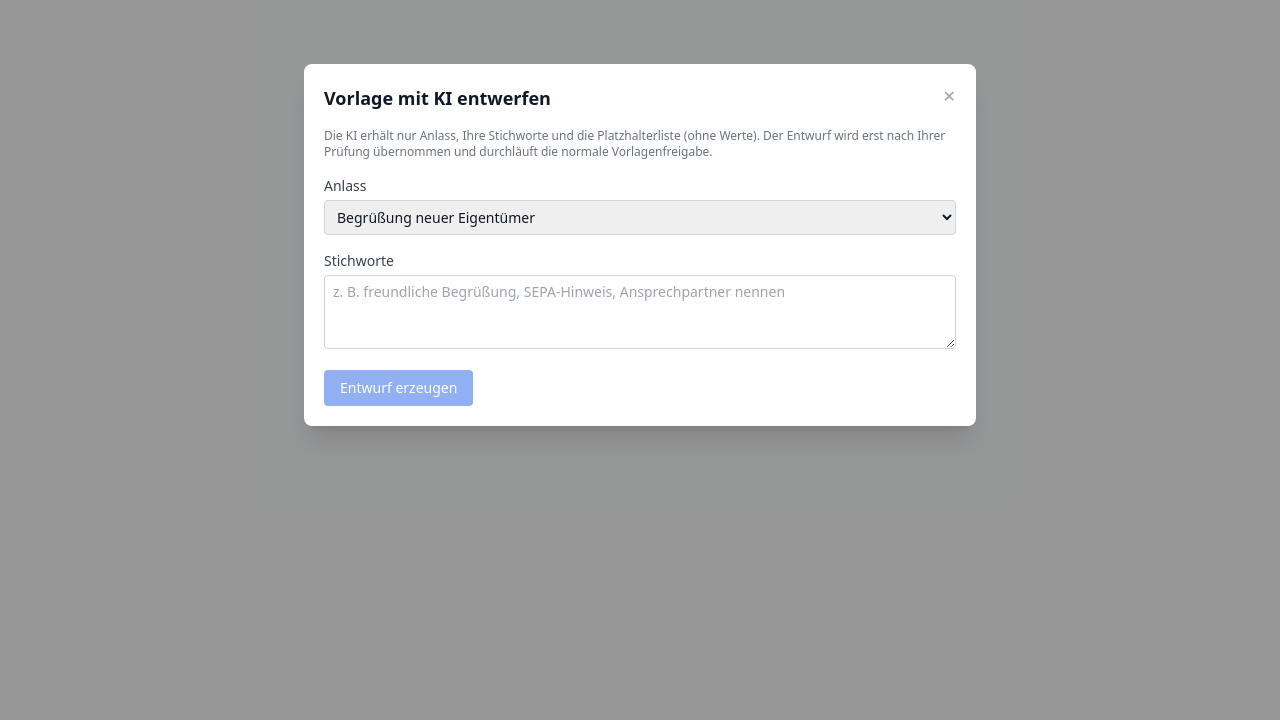
it: KiAssistentDialog — Mit KI entwerfen › bietet „Alle Blöcke ersetzen“ nur bei vorhandenen Blöcken an
Type "kurz" into the text box labelled "Stichworte".
click(640, 312); type("kurz")  # box [324,275,956,349]
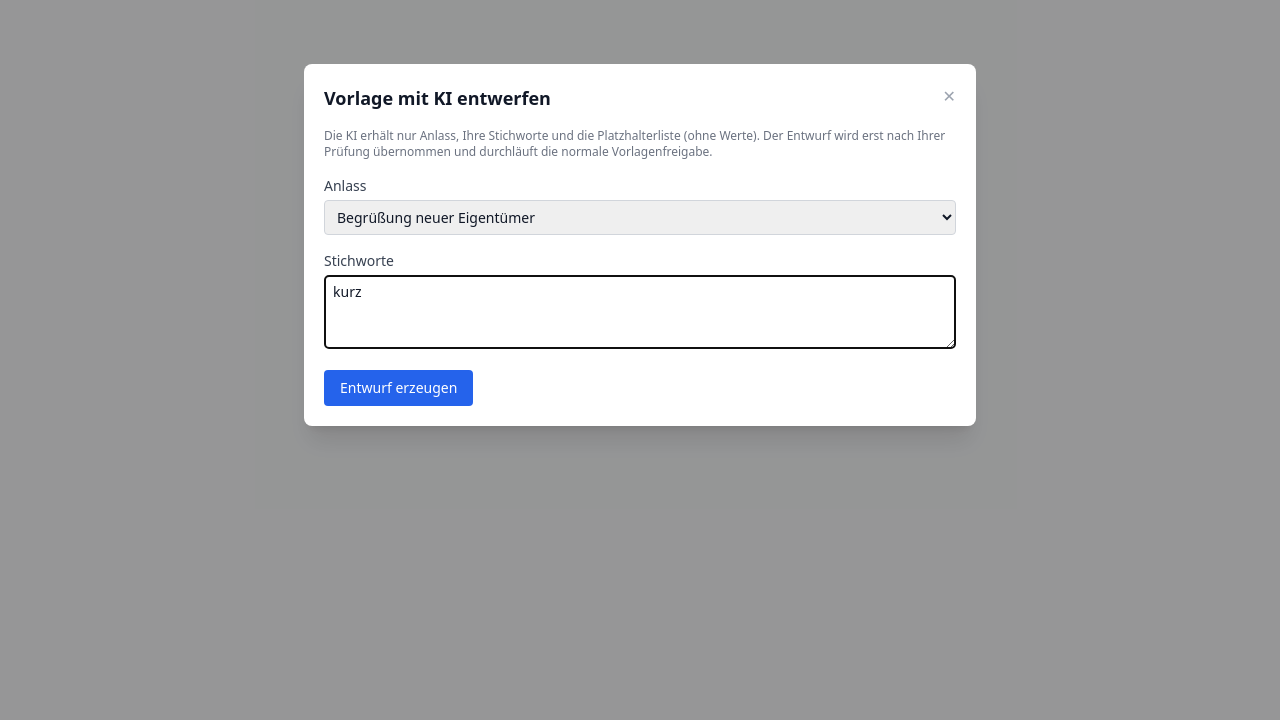
Click the button "Entwurf erzeugen".
click(399, 388)  # box [324,370,473,406]
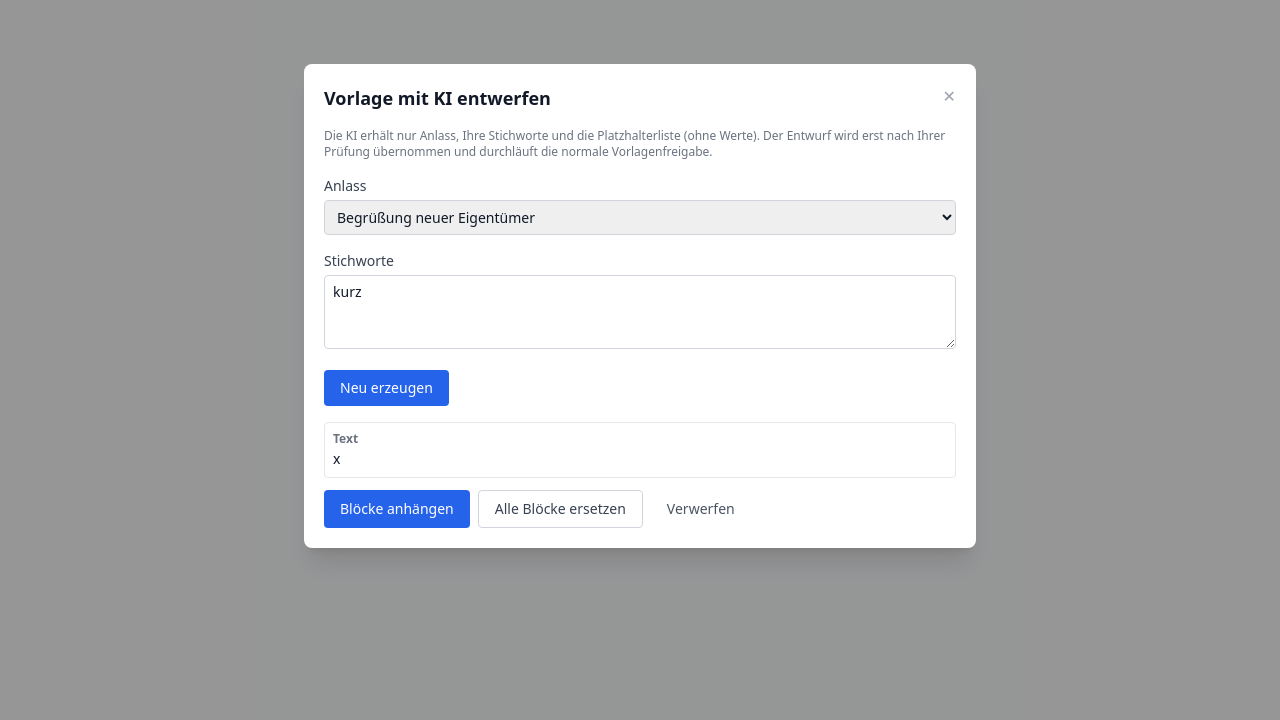
Expected: the button "Alle Blöcke ersetzen" is shown, [478,490,643,528]
